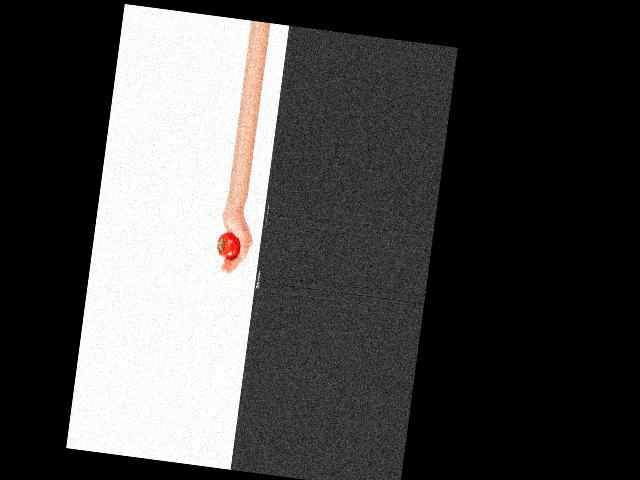tomato: (216, 230, 241, 259)
